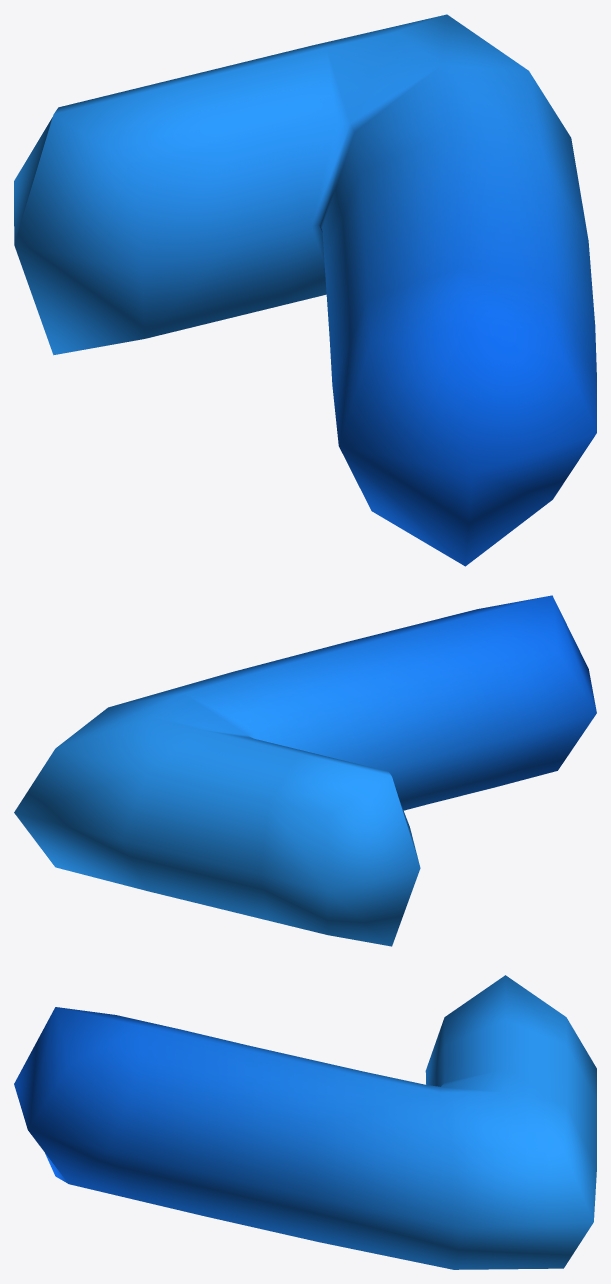
The model's file is CartoonFont_7.FBX.
3 views of the same model, one above another, from view 1: azimuth 30°, elevation 25°; view 2: azimuth 150°, elevation 25°; view 3: azimuth 270°, elevation 25° (orthographic). The views are drawn at different scales.
Visible parts, largest first — view 1: 7; view 2: 7; view 3: 7.
Boxes of the visible parts, <box> form: 7: <box>14,14,596,566</box>; 7: <box>14,595,596,946</box>; 7: <box>14,975,596,1269</box>.
Bounding box in the file's own units: 22.52 × 9.82 × 30.59.
1 material, 1 textured.
